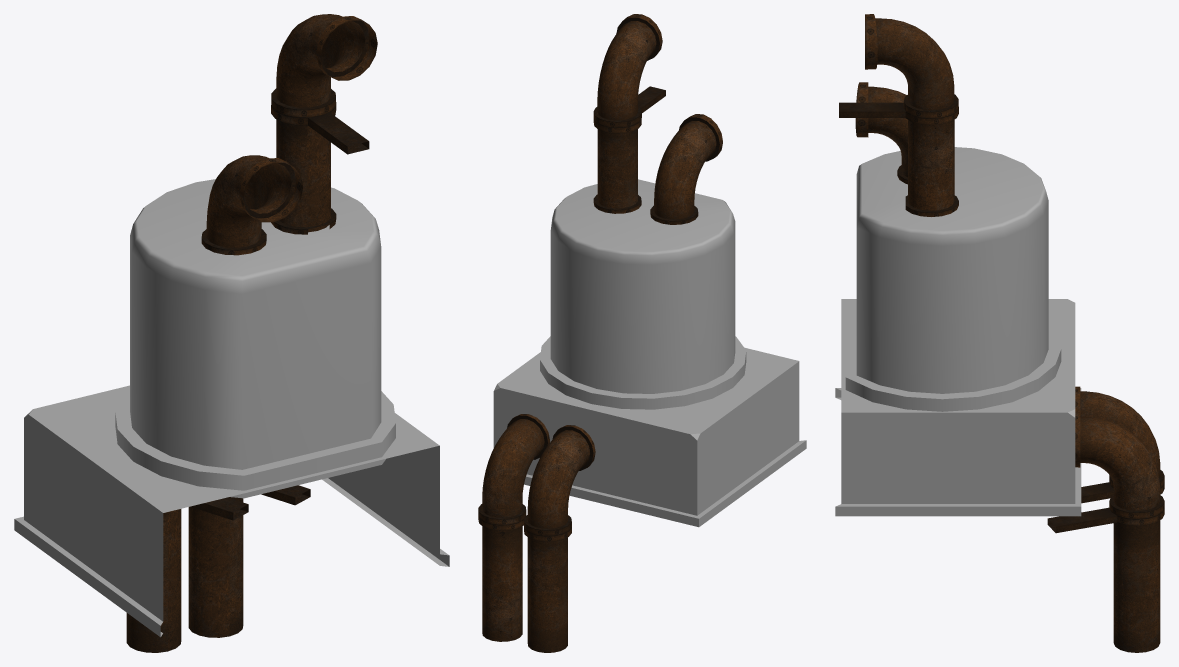
Rendered from SM_I_BoilerLarge.fbx.
3 views of the same model, side by side, from view 1: azimuth 30°, elevation 25°; view 2: azimuth 150°, elevation 25°; view 3: azimuth 270°, elevation 25° (orthographic). The views are drawn at different scales.
Visible parts, largest first — view 1: pCylinder18, pCube1, I_Pipe_CURVED3, I_Pipe_VERTICAL1, I_Pipe_CURVED2, I_Pipe_VERTICAL3, I_Pipe_VERTICAL2; view 2: pCylinder18, pCube1, I_Pipe_CURVED3, I_Pipe_VERTICAL2, I_Pipe_VERTICAL1, I_Pipe_CURVED2, I_Pipe_CURVED1, I_Pipe_CURVED, I_Pipe_VERTICAL3; view 3: pCylinder18, pCube1, I_Pipe_VERTICAL1, I_Pipe_CURVED3, I_Pipe_CURVED, I_Pipe_VERTICAL3, I_Pipe_CURVED1, I_Pipe_CURVED2, I_Pipe_VERTICAL2.
Part boxes in pixels (bbox=[...]): pCylinder18: bbox=[115, 179, 395, 498]; pCube1: bbox=[14, 385, 449, 637]; I_Pipe_CURVED3: bbox=[271, 14, 377, 117]; I_Pipe_VERTICAL1: bbox=[188, 485, 310, 637]; I_Pipe_CURVED2: bbox=[201, 155, 302, 255]; I_Pipe_VERTICAL3: bbox=[271, 102, 369, 232]; I_Pipe_VERTICAL2: bbox=[126, 497, 248, 652]; pCylinder18: bbox=[540, 179, 746, 409]; pCube1: bbox=[493, 347, 806, 527]; I_Pipe_CURVED3: bbox=[593, 14, 662, 127]; I_Pipe_VERTICAL2: bbox=[524, 526, 571, 652]; I_Pipe_VERTICAL1: bbox=[478, 514, 523, 641]; I_Pipe_CURVED2: bbox=[650, 114, 722, 224]; I_Pipe_CURVED1: bbox=[524, 425, 595, 535]; I_Pipe_CURVED: bbox=[478, 414, 549, 524]; I_Pipe_VERTICAL3: bbox=[593, 86, 665, 208]; pCylinder18: bbox=[845, 147, 1061, 411]; pCube1: bbox=[835, 299, 1081, 516]; I_Pipe_VERTICAL1: bbox=[1047, 507, 1164, 652]; I_Pipe_CURVED3: bbox=[865, 14, 958, 118]; I_Pipe_CURVED: bbox=[1075, 412, 1164, 519]; I_Pipe_VERTICAL3: bbox=[839, 102, 958, 210]; I_Pipe_CURVED1: bbox=[1075, 386, 1164, 487]; I_Pipe_CURVED2: bbox=[855, 82, 907, 184]; I_Pipe_VERTICAL2: bbox=[1081, 482, 1164, 503].
Size of the model in its own units: 120 by 290 by 141.
